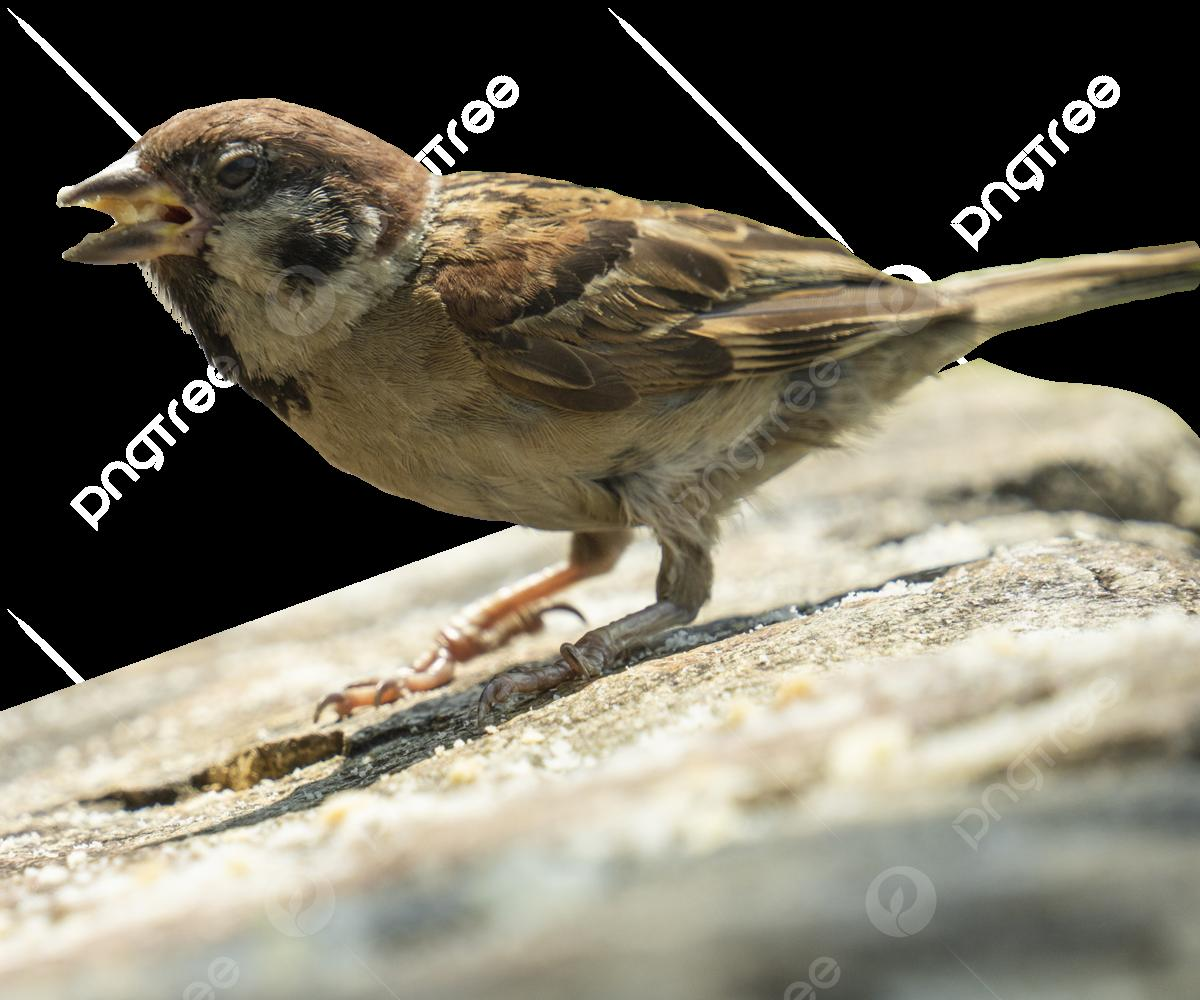bird: (58, 99, 1199, 715)
